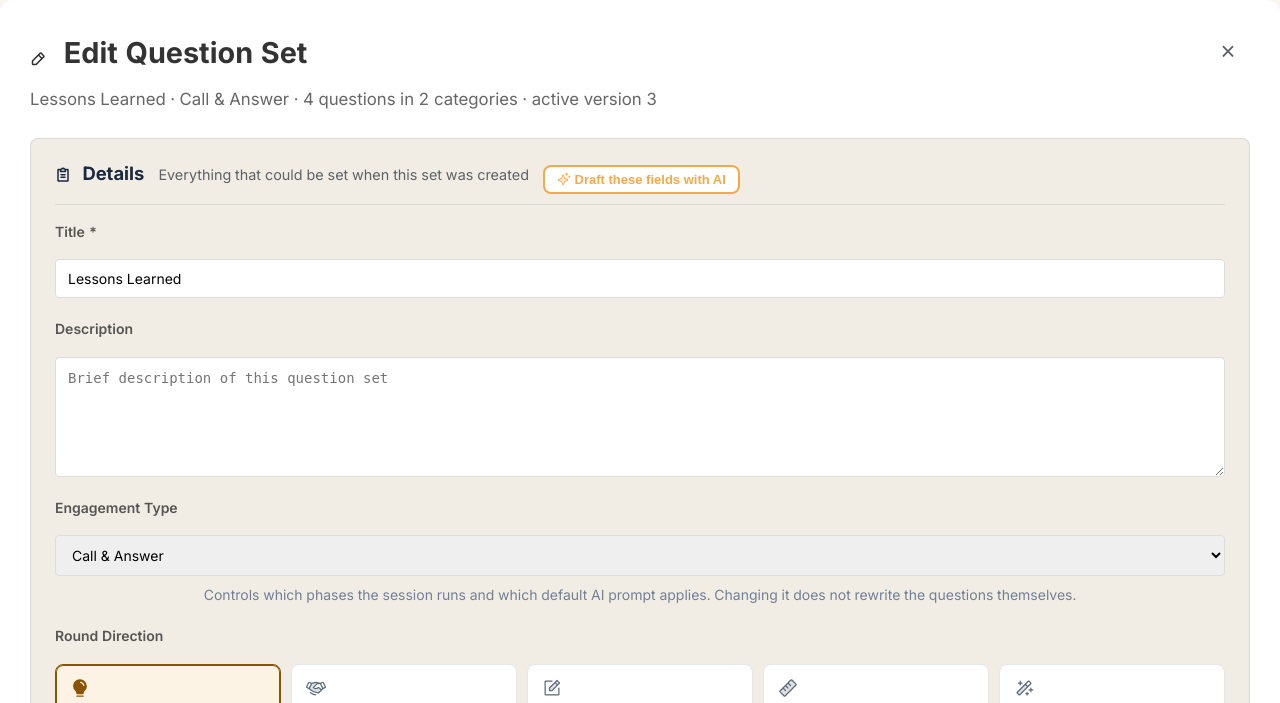
Test: the questions the draft is made from › says so plainly when the set has no questions to read
Click the button "Draft these fields with AI".
click(641, 179)  # box [543,165,740,194]
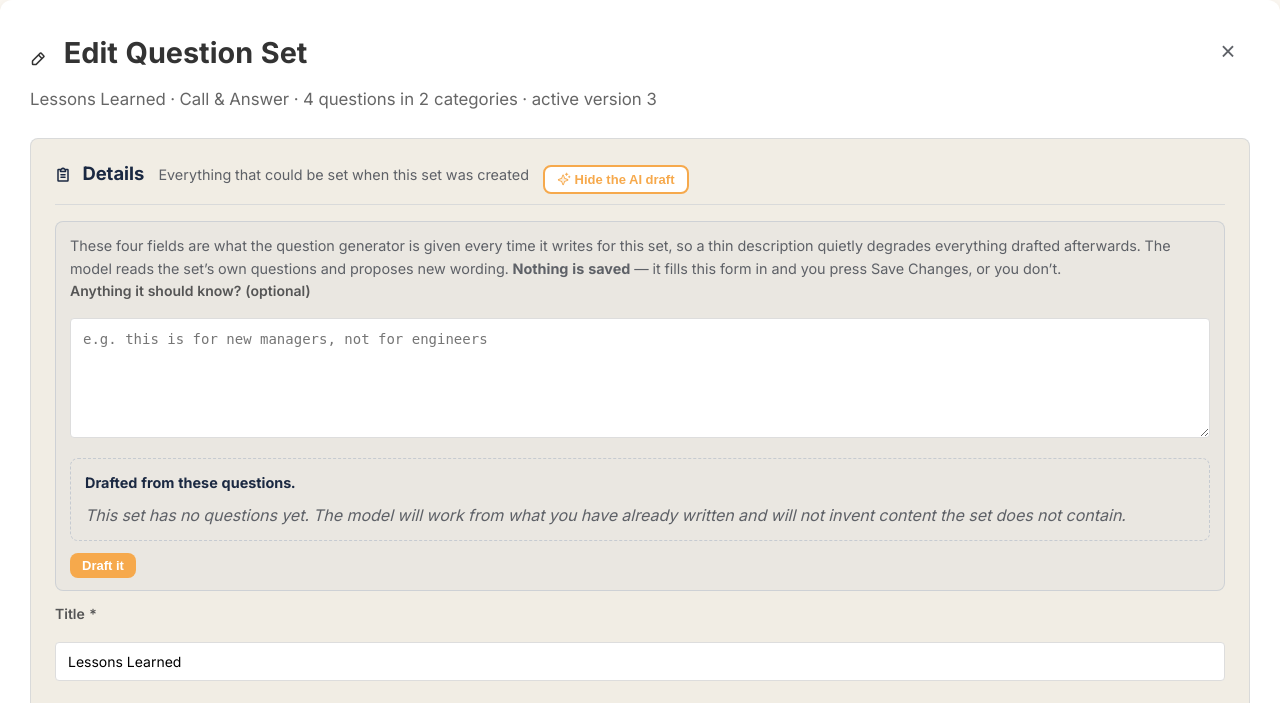
Expected: the text "This set has no questions yet" is shown, [85,504,1126,524]
